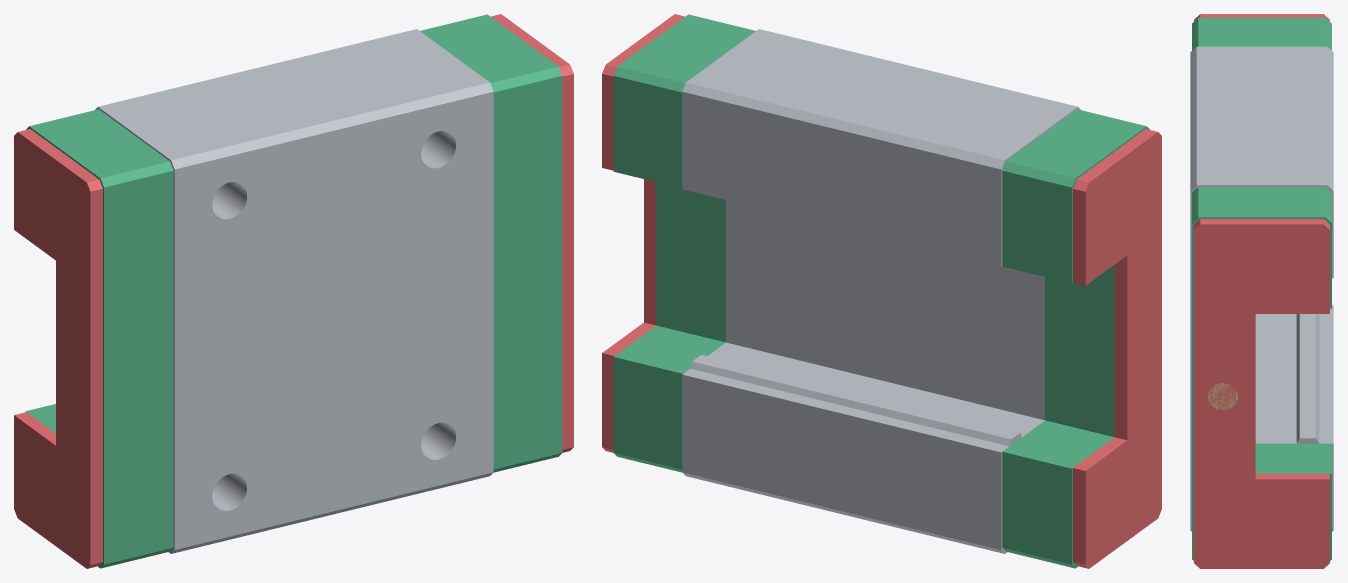
3 views of the same model, side by side, from view 1: azimuth 30°, elevation 25°; view 2: azimuth 150°, elevation 25°; view 3: azimuth 270°, elevation 25° (orthographic). The views are drawn at different scales.
Visible parts, largest first — view 1: steel_saddle, endcap_neg_x, endcap_pos_x, wiper_neg_x, wiper_pos_x; view 2: steel_saddle, endcap_neg_x, endcap_pos_x, wiper_neg_x, wiper_pos_x; view 3: wiper_pos_x, steel_saddle, endcap_pos_x, endcap_neg_x, grease_port, wiper_neg_x.
Boxes of the visible parts, bbox=[...] form: steel_saddle: bbox=[95, 29, 493, 553]; endcap_neg_x: bbox=[25, 109, 173, 568]; endcap_pos_x: bbox=[420, 14, 562, 472]; wiper_neg_x: bbox=[14, 129, 102, 568]; wiper_pos_x: bbox=[491, 14, 573, 452]; steel_saddle: bbox=[682, 29, 1080, 553]; endcap_neg_x: bbox=[1002, 109, 1149, 568]; endcap_pos_x: bbox=[613, 14, 755, 472]; wiper_neg_x: bbox=[1073, 129, 1161, 568]; wiper_pos_x: bbox=[602, 14, 684, 452]; wiper_pos_x: bbox=[1194, 219, 1329, 568]; steel_saddle: bbox=[1190, 46, 1333, 531]; endcap_pos_x: bbox=[1192, 187, 1331, 560]; endcap_neg_x: bbox=[1192, 17, 1331, 50]; grease_port: bbox=[1208, 383, 1237, 409]; wiper_neg_x: bbox=[1194, 14, 1329, 21].
Bounding box in the file's own units: 0.0347 × 0.027 × 0.01.
